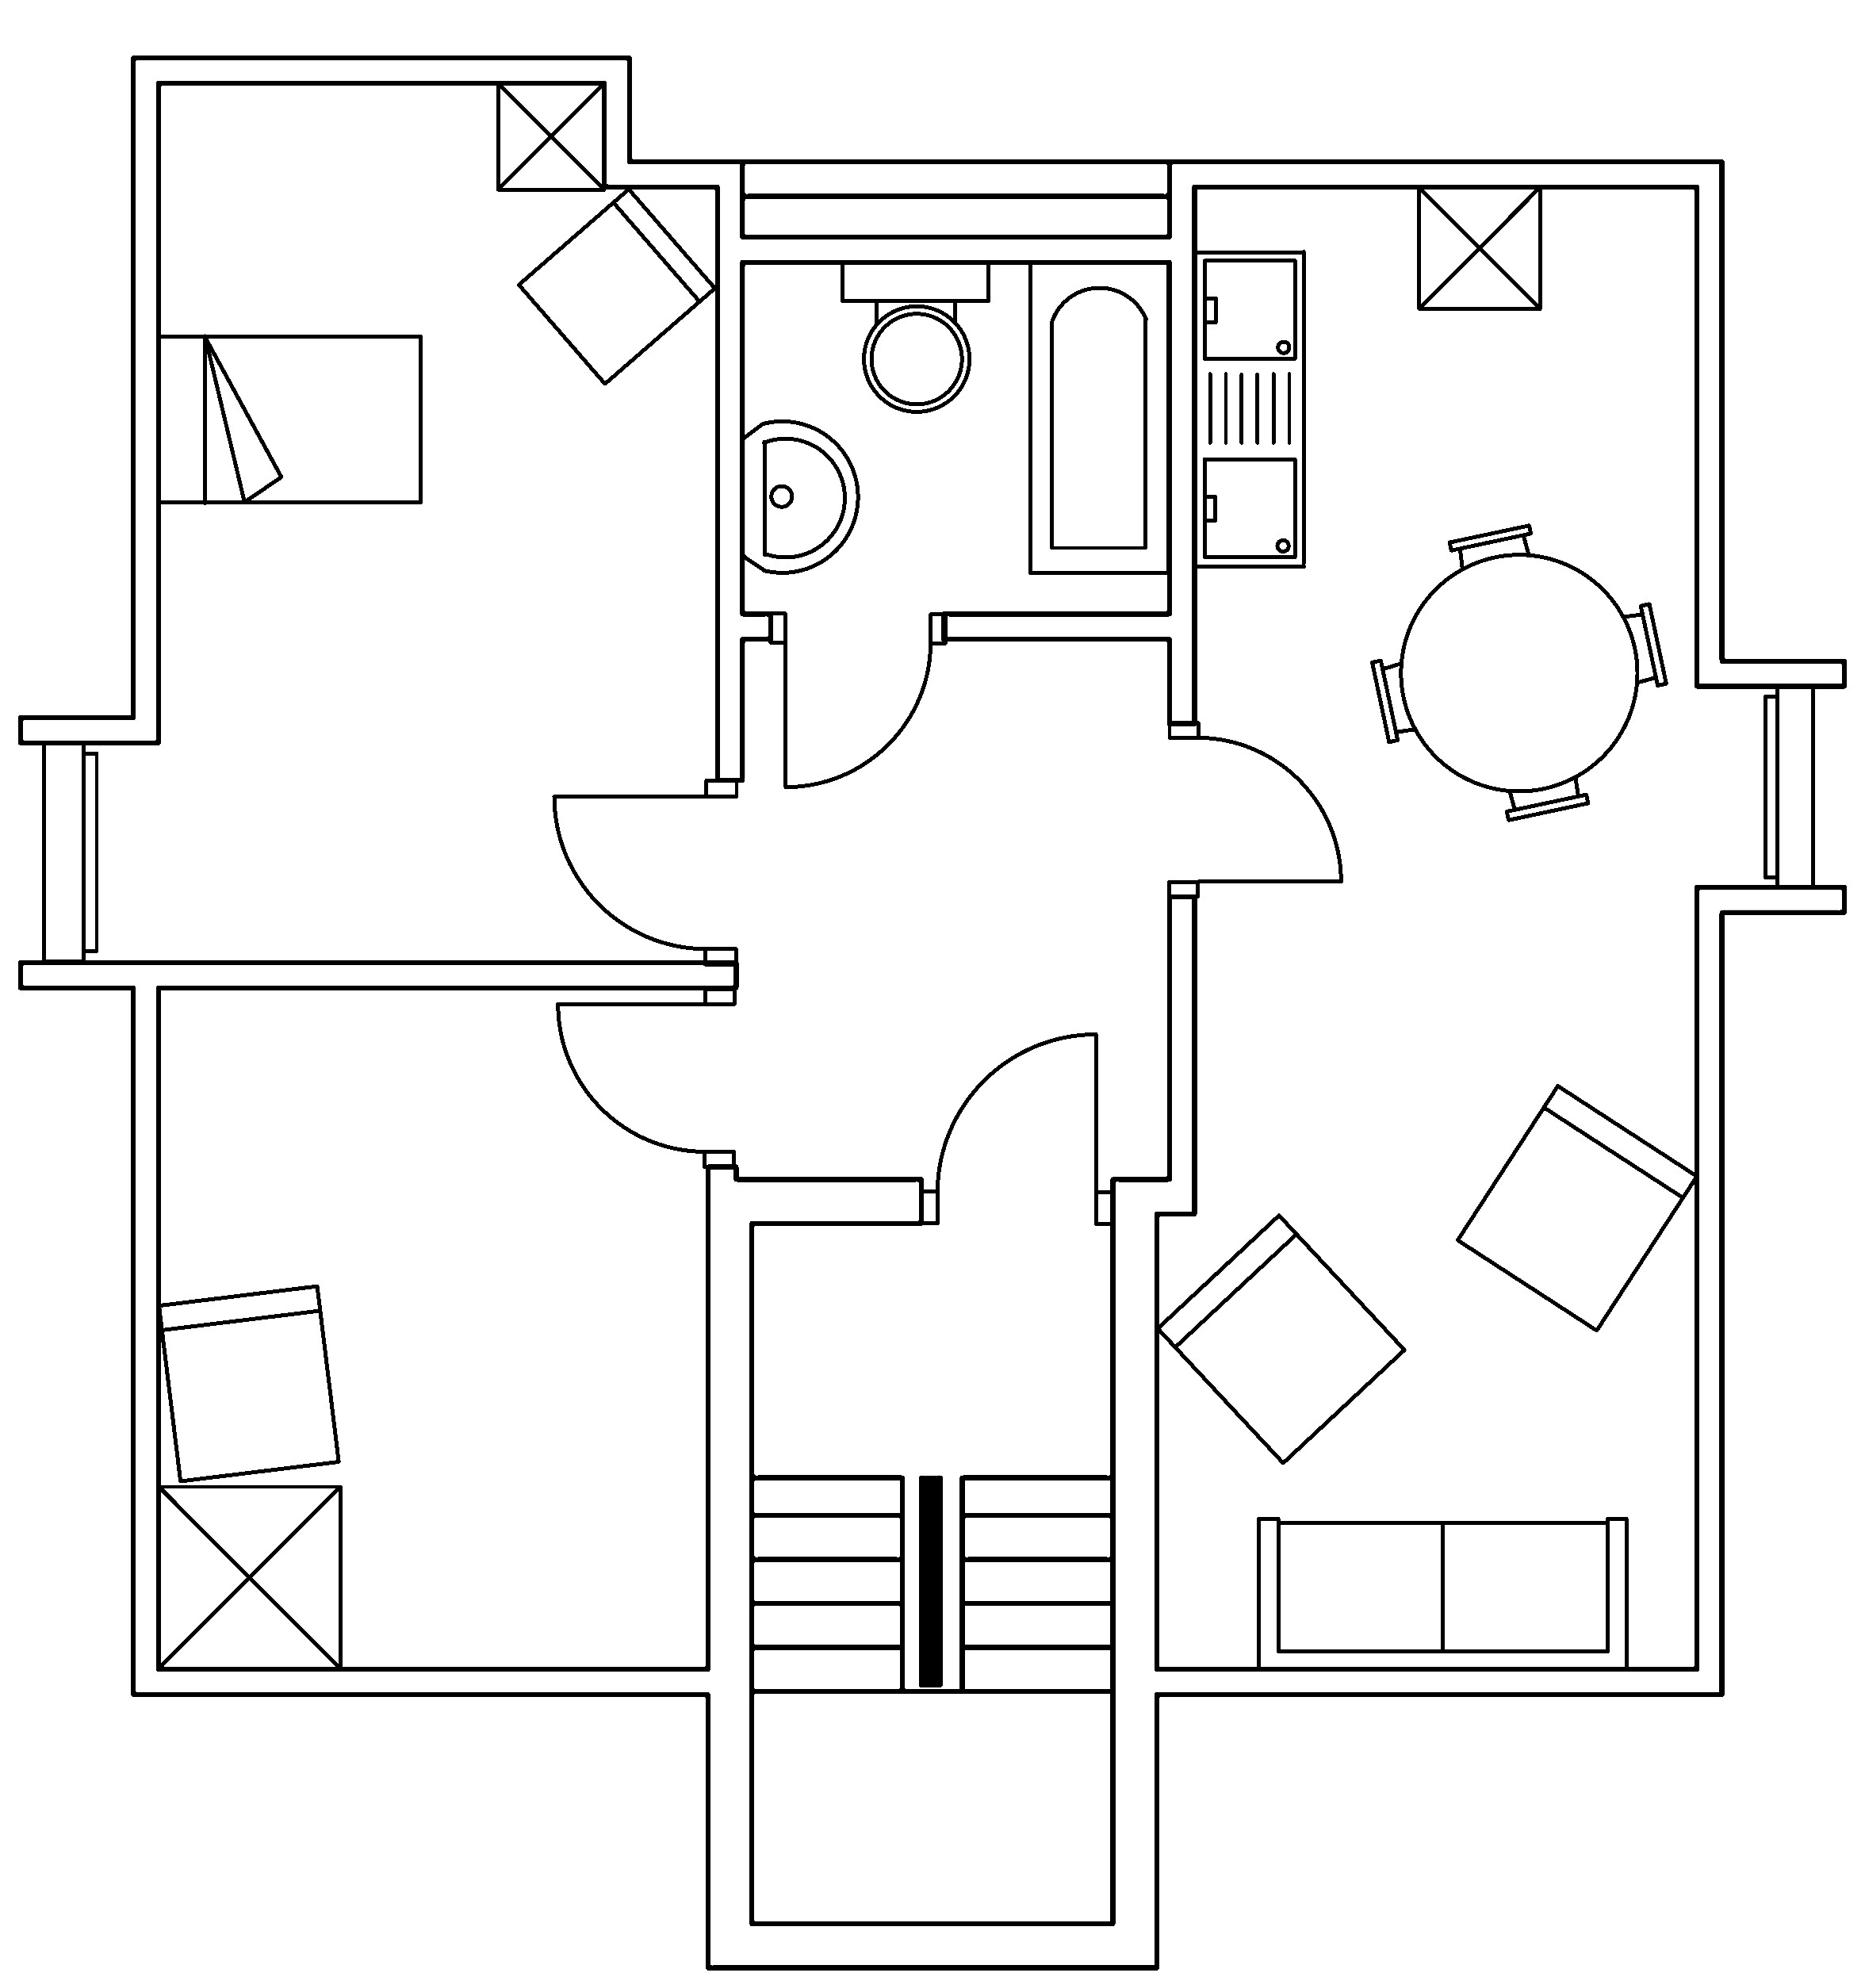bed: (154, 333, 424, 505)
coffee_table: (154, 1481, 342, 1671), (1416, 182, 1542, 310), (494, 79, 606, 191)
large_sink: (840, 258, 990, 412)
large_sofa: (1255, 1515, 1628, 1672)
round_table: (1369, 522, 1669, 822)
small_sink: (740, 419, 859, 573)
small_sofa: (1153, 1211, 1408, 1466), (1455, 1082, 1698, 1332), (515, 186, 717, 386), (156, 1282, 342, 1483)
tub: (1027, 258, 1171, 575)
twin_sink: (1192, 247, 1308, 570)
